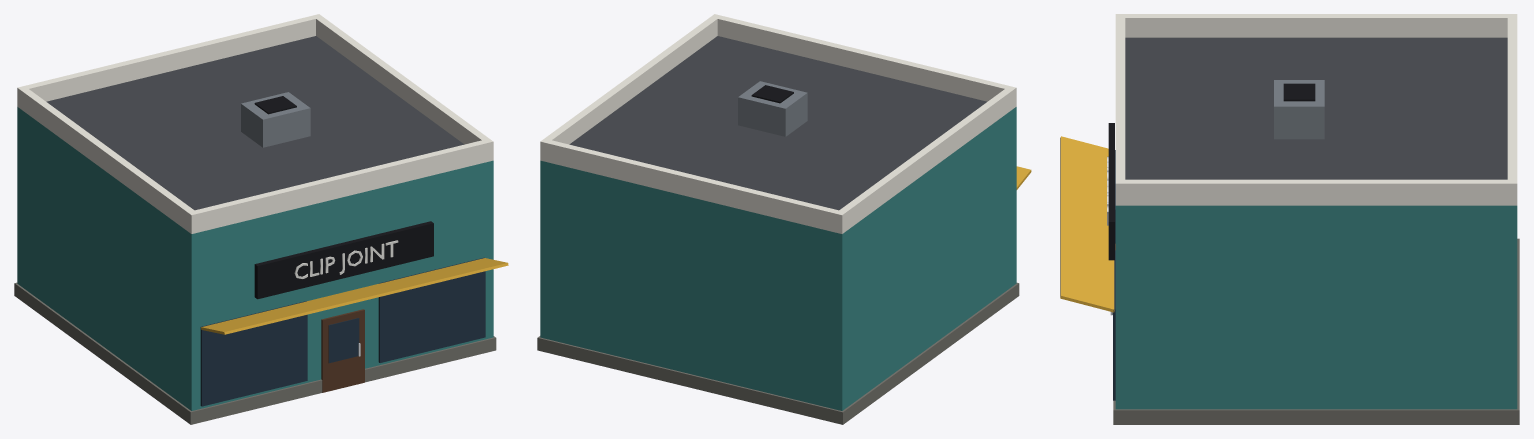
The model's file is shop_barber.glb.
3 renders of one model, left to right at view 1: azimuth 30°, elevation 25°; view 2: azimuth 150°, elevation 25°; view 3: azimuth 270°, elevation 25°, orthographic. The views are drawn at different scales.
Parts seen in each view (by area): view 1: shop_barber_Body, shop_barber_SignBoard, shop_barber_Sign; view 2: shop_barber_Body; view 3: shop_barber_Body, shop_barber_SignBoard.
Boxes of the visible parts, x1=… form: shop_barber_Body: x1=14, y1=14, x2=508, y2=424; shop_barber_SignBoard: x1=254, y1=221, x2=433, y2=299; shop_barber_Sign: x1=294, y1=240, x2=398, y2=278; shop_barber_Body: x1=537, y1=14, x2=1031, y2=424; shop_barber_Body: x1=1060, y1=14, x2=1519, y2=424; shop_barber_SignBoard: x1=1108, y1=123, x2=1114, y2=260.
Bounding box in the file's own units: 10.12 × 6.99 × 11.44.
